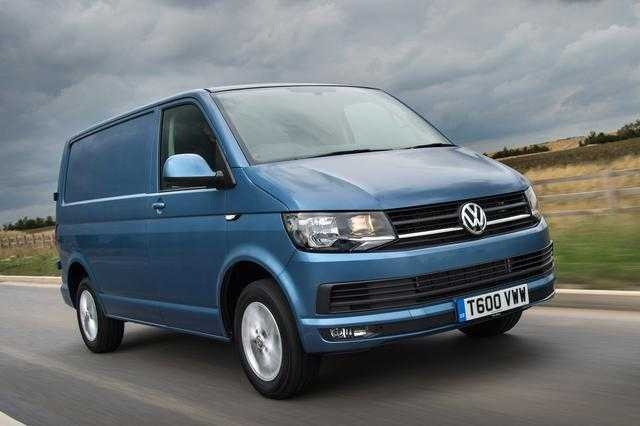van: (53, 81, 557, 400)
